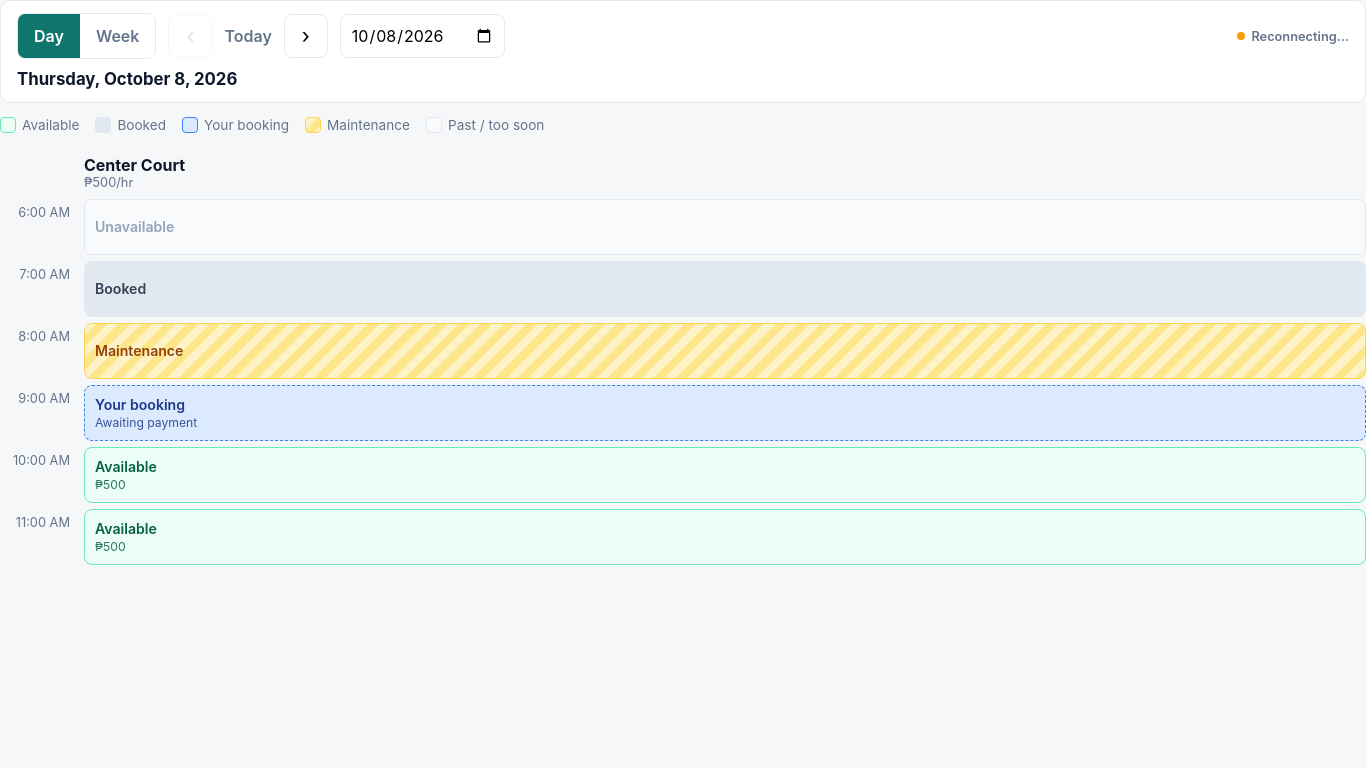
Test: player view › explains a slot that was just taken, and refreshes the calendar
Click the 1st button "Available ₱500" at x=126, y=466, box [84, 447, 1365, 503]
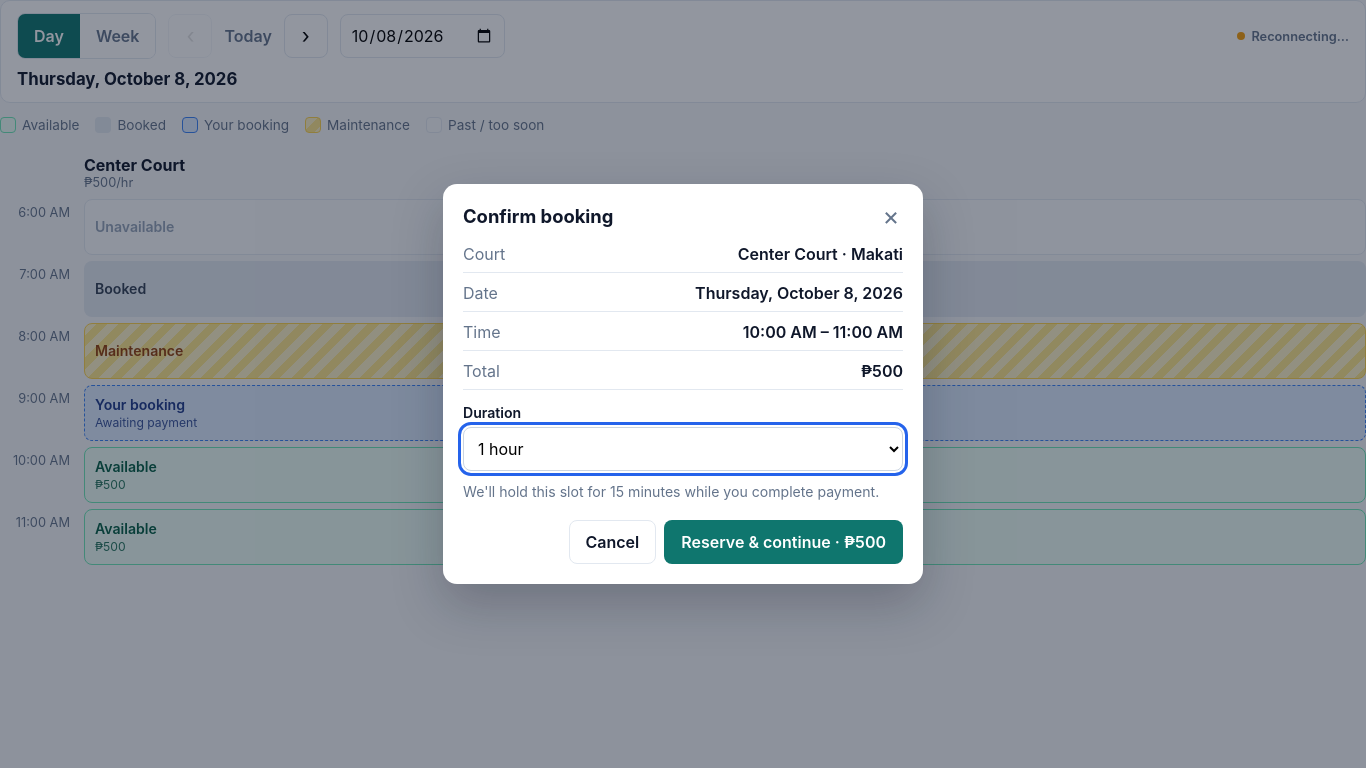
Click the button "Reserve & continue · ₱500" at x=784, y=542, box [664, 520, 903, 564]
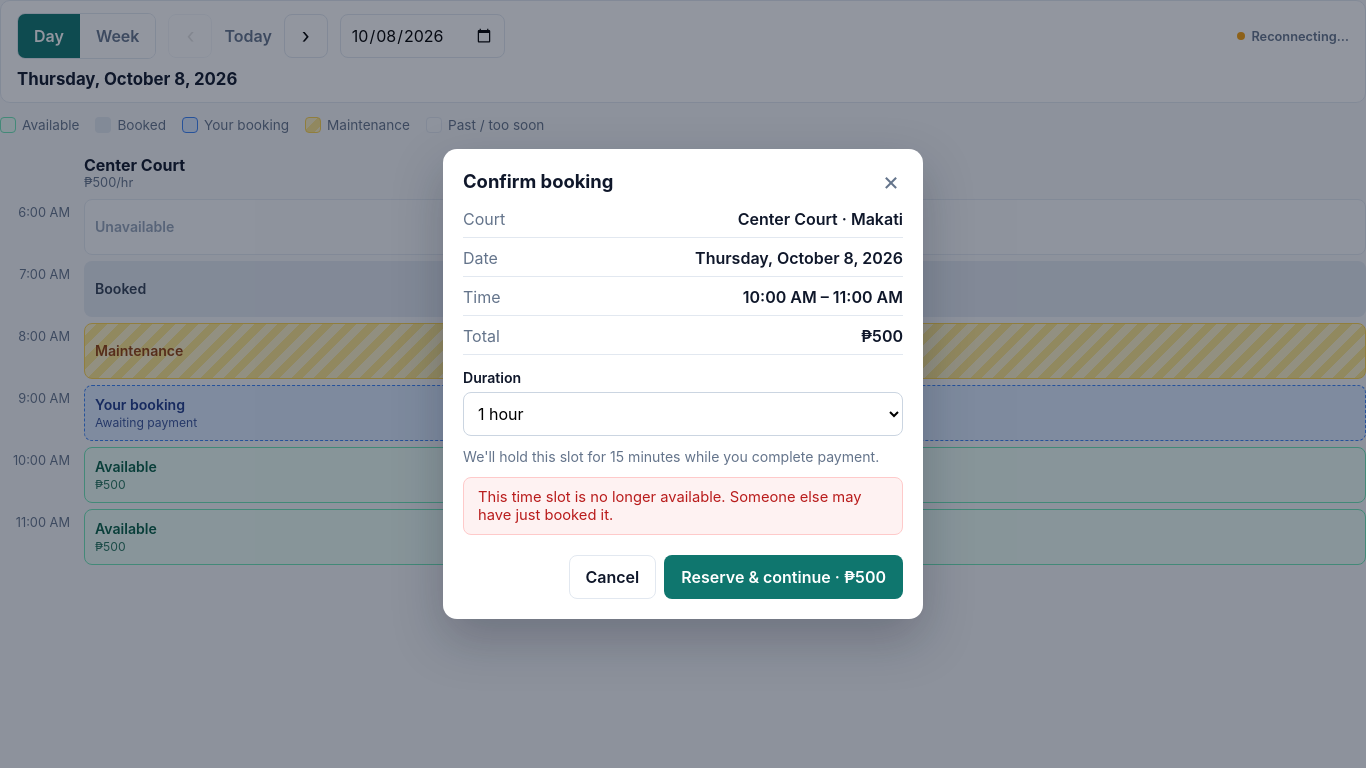
Expected: the message shows "no longer available", [478, 488, 862, 524]
